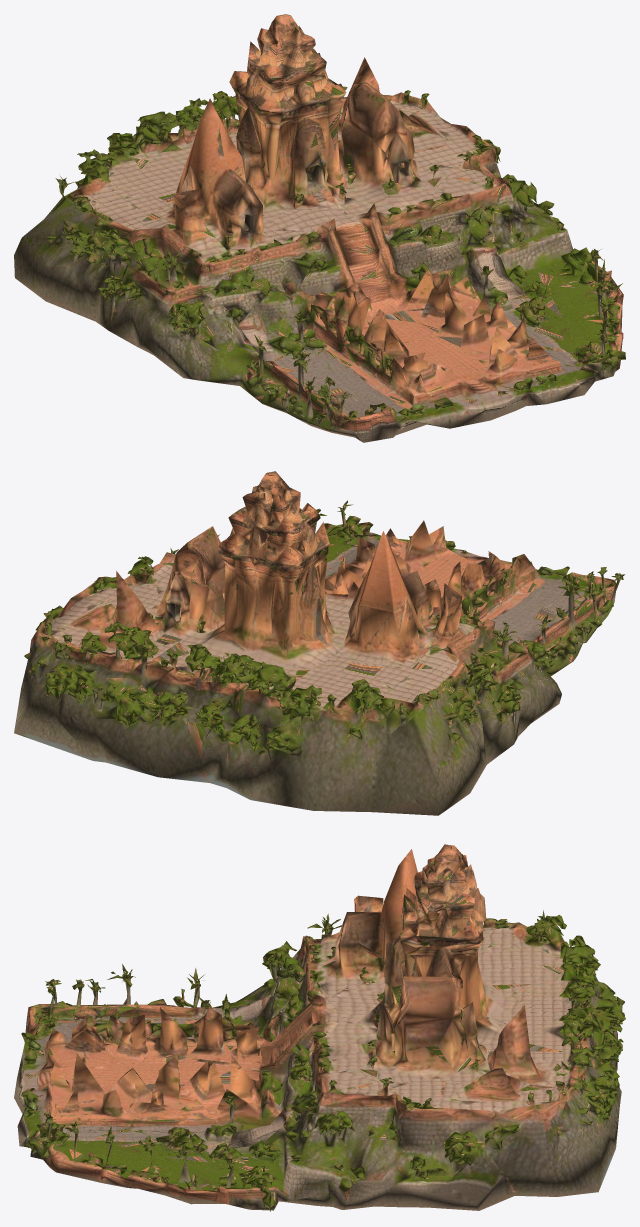
The model's file is thap-ba-ponagar.glb.
The picture shows the model from 3 angles, top to bottom: view 1: azimuth 30°, elevation 25°; view 2: azimuth 150°, elevation 25°; view 3: azimuth 270°, elevation 25°; orthographic projection. The views are drawn at different scales.
Size of the model in its own units: 0.8563 by 0.4582 by 0.9938.
Materials: 1 (1 with a texture image).
